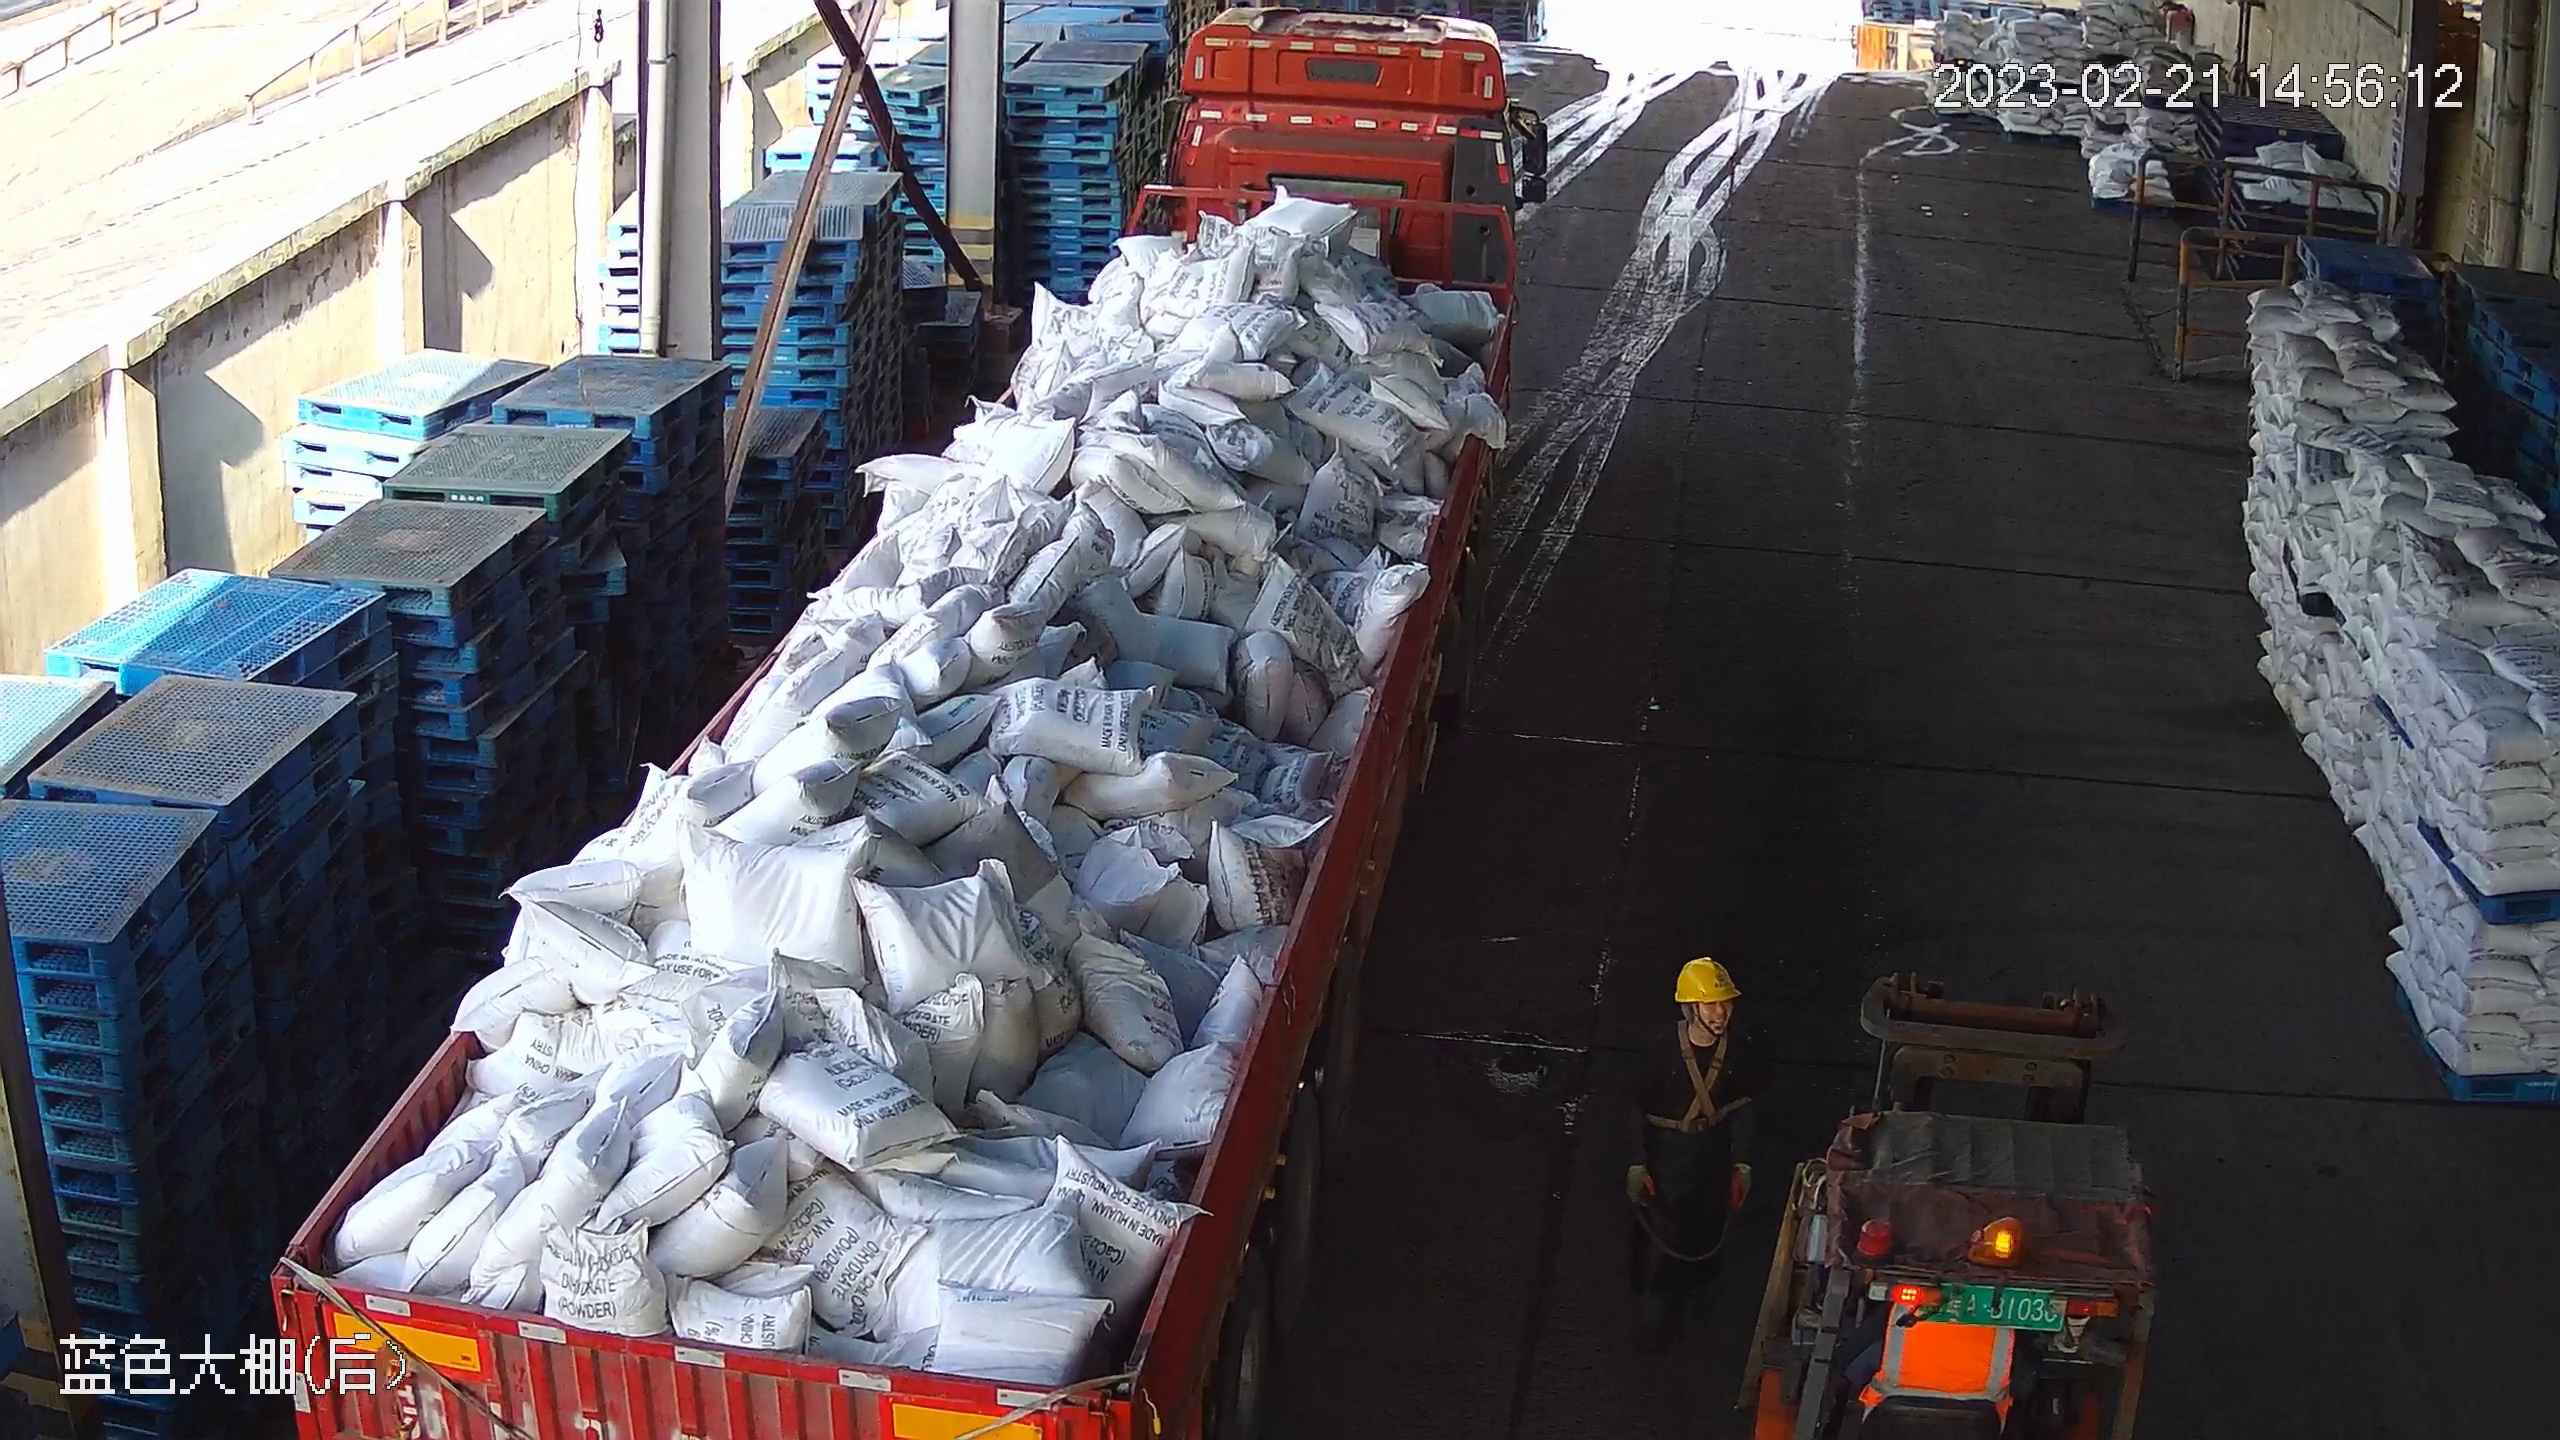belt: (1653, 1036, 1741, 1127)
head: (1642, 951, 1751, 1060)
helmet: (1676, 955, 1741, 1013)
people: (1623, 950, 1760, 1362)
truck: (276, 11, 1556, 1440)
